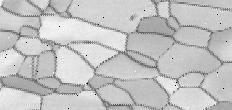good_void: (129, 15, 136, 22)
